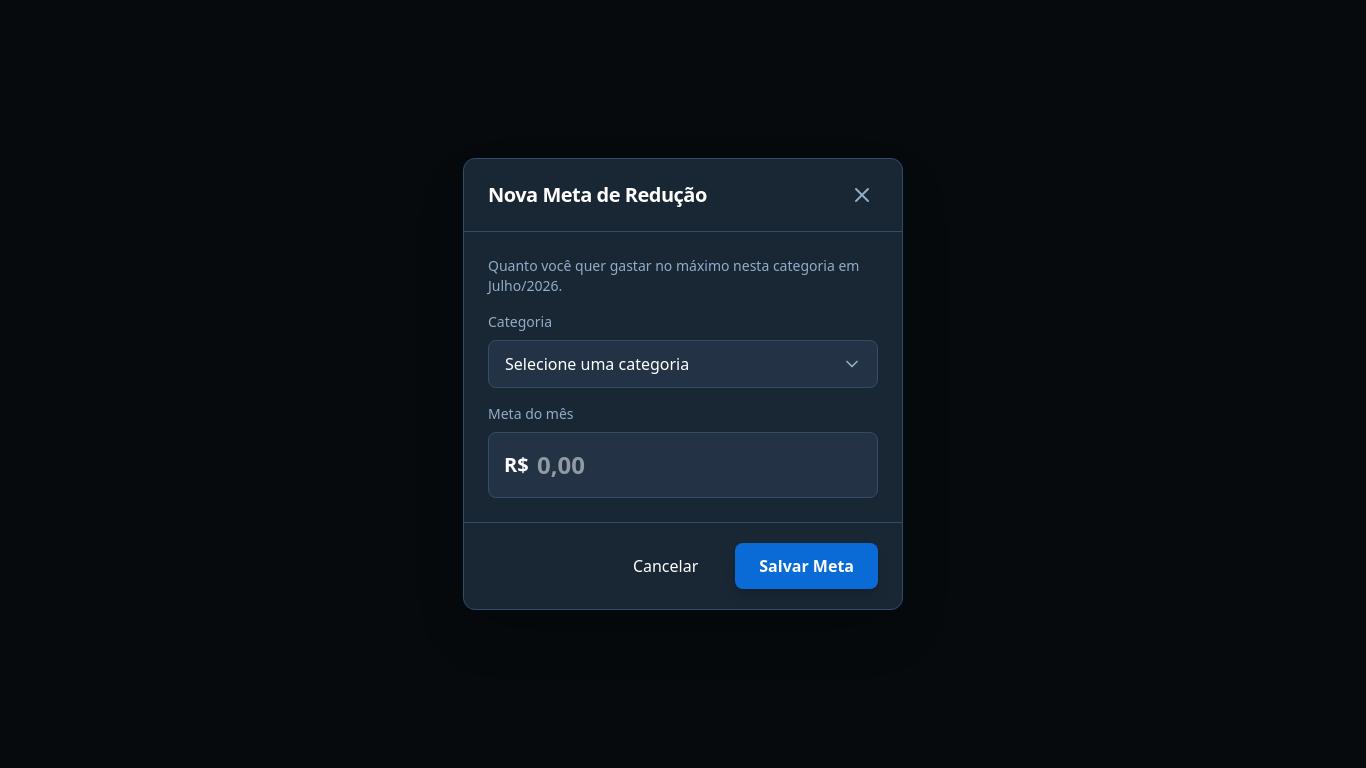
Scenario: ReductionGoalModal › InvalidTarget_BlocksSubmit
Click the button "Salvar Meta".
click(807, 566)  # box [735,543,878,589]
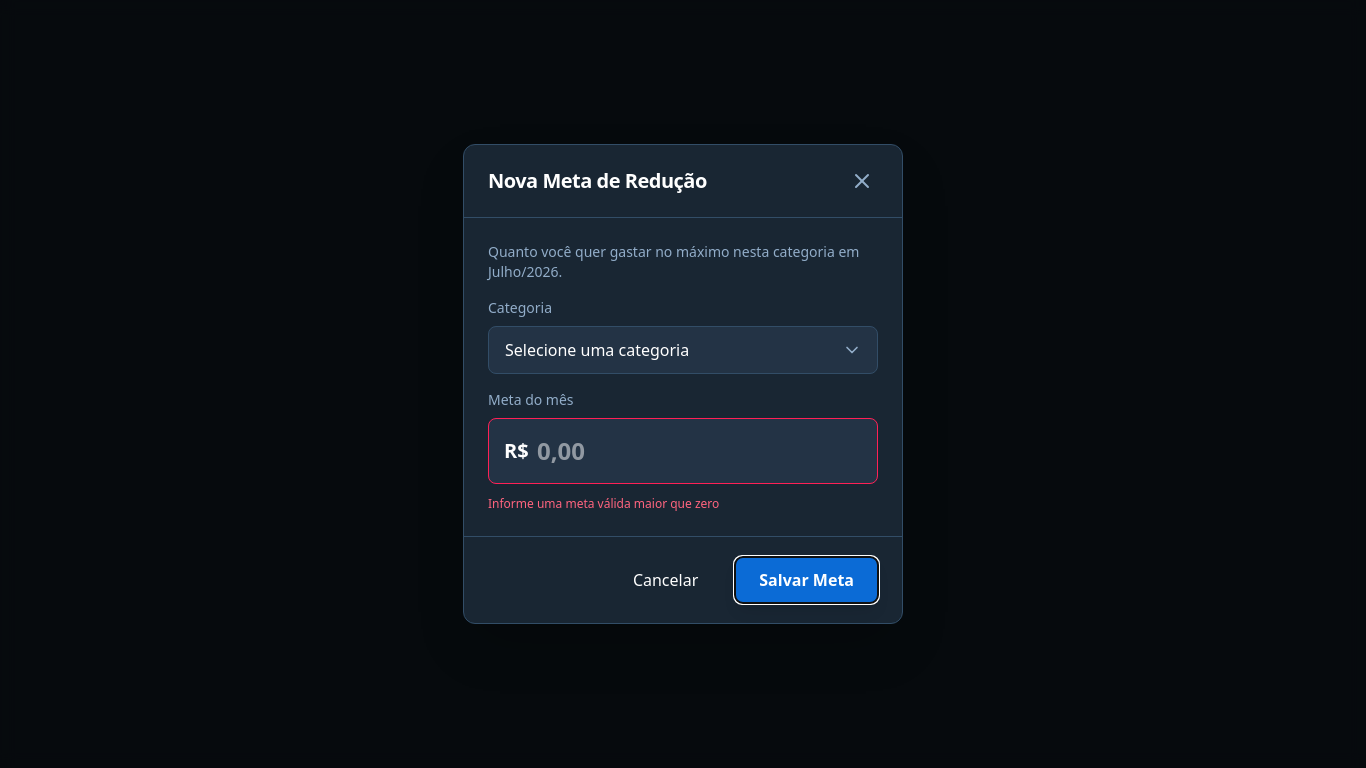
Check: the text "Informe uma meta válida maior que zero" is shown, box [488,495,719,512]
